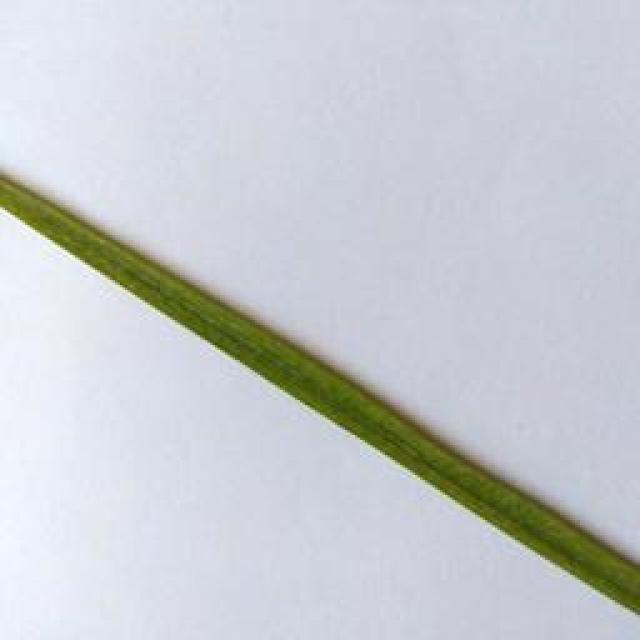Healthy-Plant: (0, 171, 640, 615)
